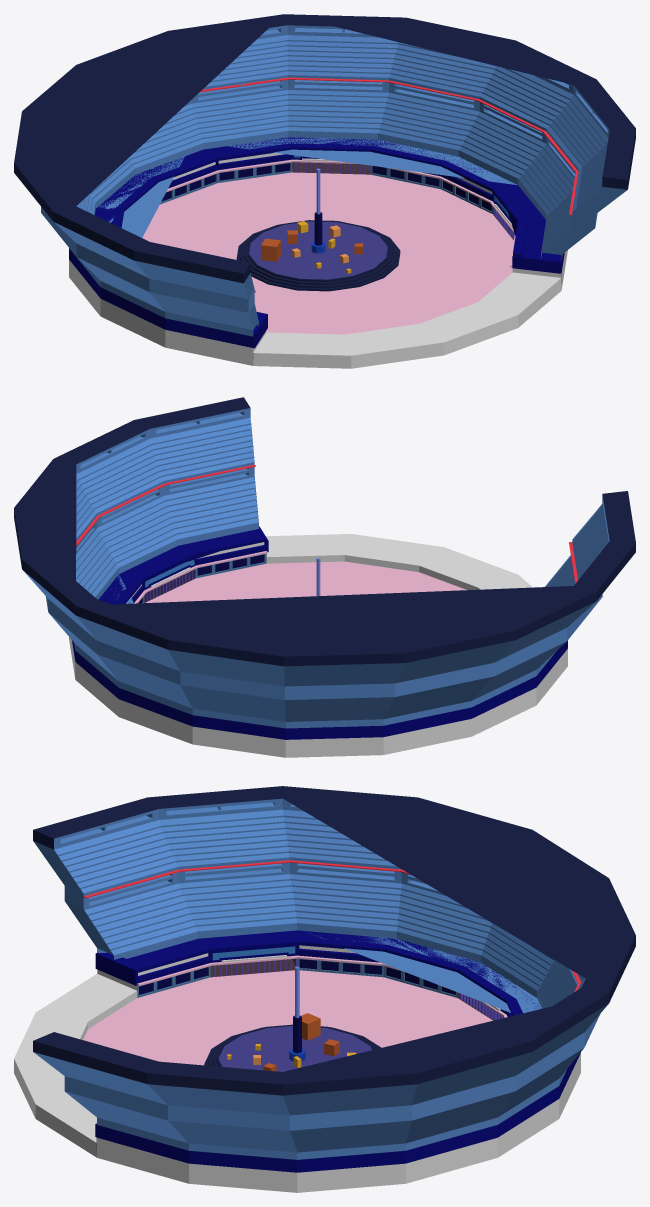
File: ARENA.fbx
The picture shows the model from 3 angles, top to bottom: view 1: azimuth 30°, elevation 25°; view 2: azimuth 150°, elevation 25°; view 3: azimuth 270°, elevation 25°; orthographic projection. The views are drawn at different scales.
Parts seen in each view (by area): view 1: TRIBĪNES, TRIBĪNES.augša trim, PAMATS, ARĒNAS ĀRA, augša arēna, TRIBĪNES.2, TRIBĪNES.4, CENTRA ARĒNA, PAKĀPIENI-CENTRS, TRIBĪNES.1, DEKORS1, TRIBĪNES.3 (+4 smaller); view 2: TRIBĪNES, TRIBĪNES.augša trim, ARĒNAS ĀRA, augša arēna, PAMATS, TRIBĪNES.1, TRIBĪNES.TRIM, DEKORS1; view 3: TRIBĪNES, TRIBĪNES.augša trim, PAMATS, ARĒNAS ĀRA, augša arēna, TRIBĪNES.4, CENTRA ARĒNA, TRIBĪNES.3, DEKORS1, lielā arēna.001, TRIBĪNES.TRIM, TRIM (+2 smaller).
Boxes of the visible parts, bbox=[...] form: TRIBĪNES: bbox=[41, 25, 627, 336]; TRIBĪNES.augša trim: bbox=[14, 14, 635, 283]; PAMATS: bbox=[142, 172, 513, 334]; ARĒNAS ĀRA: bbox=[69, 250, 567, 368]; augša arēna: bbox=[69, 137, 564, 348]; TRIBĪNES.2: bbox=[194, 40, 494, 156]; TRIBĪNES.4: bbox=[99, 137, 517, 325]; CENTRA ARĒNA: bbox=[249, 221, 387, 279]; PAKĀPIENI-CENTRS: bbox=[236, 220, 400, 291]; TRIBĪNES.1: bbox=[458, 67, 605, 258]; DEKORS1: bbox=[161, 163, 491, 211]; TRIBĪNES.3: bbox=[83, 107, 203, 215]; TRIBĪNES: bbox=[23, 408, 609, 728]; TRIBĪNES.augša trim: bbox=[14, 397, 635, 666]; ARĒNAS ĀRA: bbox=[69, 534, 567, 757]; augša arēna: bbox=[72, 526, 567, 739]; PAMATS: bbox=[145, 561, 467, 602]; TRIBĪNES.1: bbox=[76, 423, 258, 599]; TRIBĪNES.TRIM: bbox=[76, 464, 577, 583]; DEKORS1: bbox=[138, 554, 264, 603]; TRIBĪNES: bbox=[33, 798, 608, 1159]; TRIBĪNES.augša trim: bbox=[33, 786, 635, 1095]; PAMATS: bbox=[83, 970, 492, 1065]; ARĒNAS ĀRA: bbox=[14, 969, 580, 1192]; augša arēna: bbox=[95, 930, 580, 1172]; TRIBĪNES.4: bbox=[58, 815, 541, 1013]; CENTRA ARĒNA: bbox=[218, 1026, 371, 1071]; TRIBĪNES.3: bbox=[396, 888, 574, 1008]; DEKORS1: bbox=[139, 959, 455, 994]; lielā arēna.001: bbox=[137, 958, 457, 997]; TRIBĪNES.TRIM: bbox=[83, 860, 581, 991]; TRIM: bbox=[137, 955, 507, 1017].
Size of the model in its own units: 17447 by 3764 by 15362.
